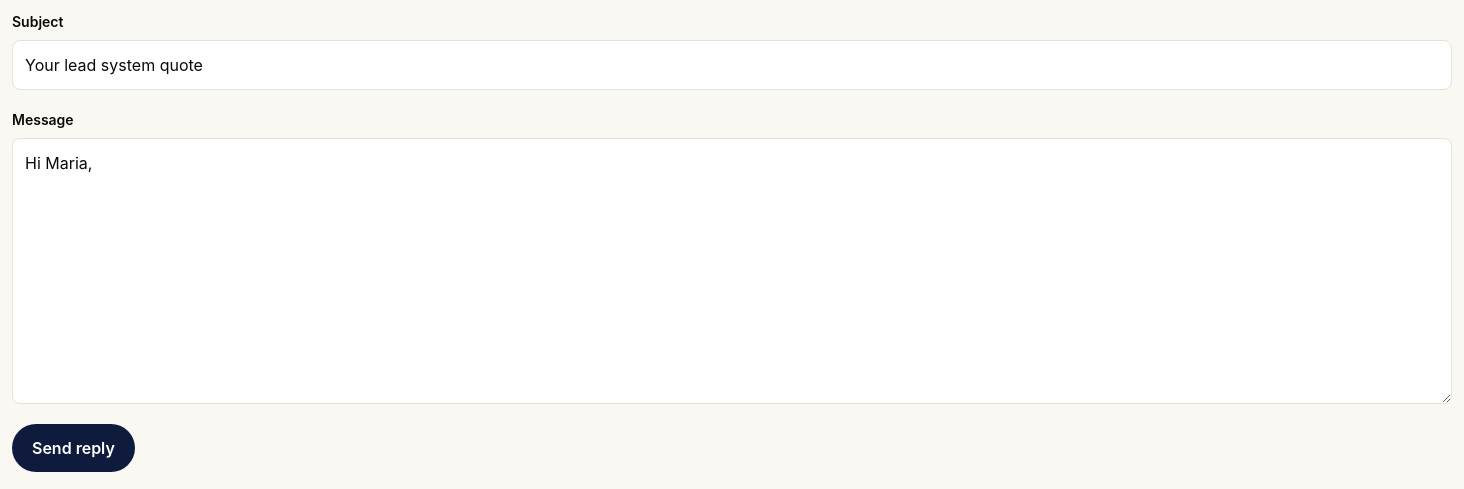
LeadReplyDraft › disables the button while sending
Click the button "Send reply": (73, 448) [12,424,135,472]
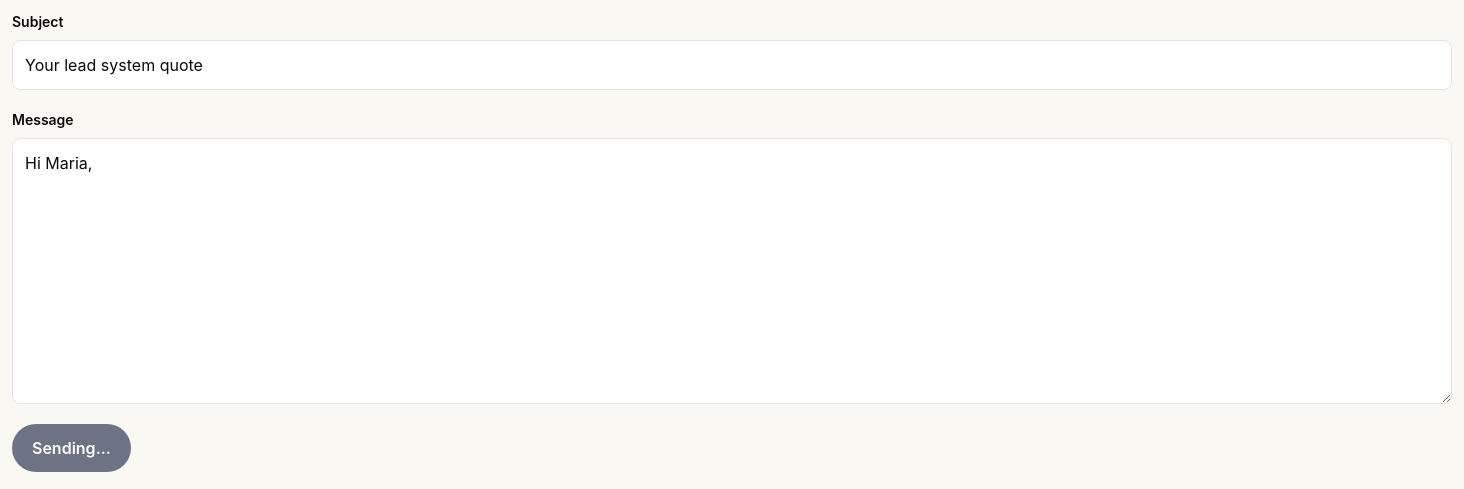
Expected: the button "Sending..." is disabled, [12,424,131,472]
